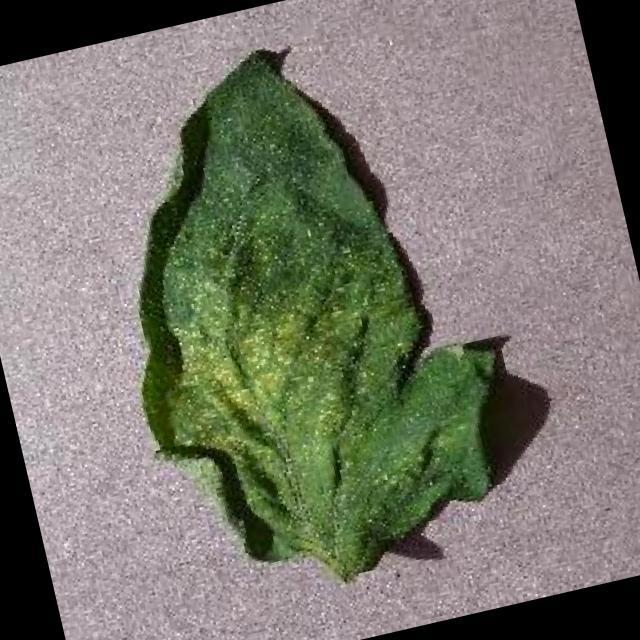Tomato spider mites leaf: (72, 15, 538, 616)
